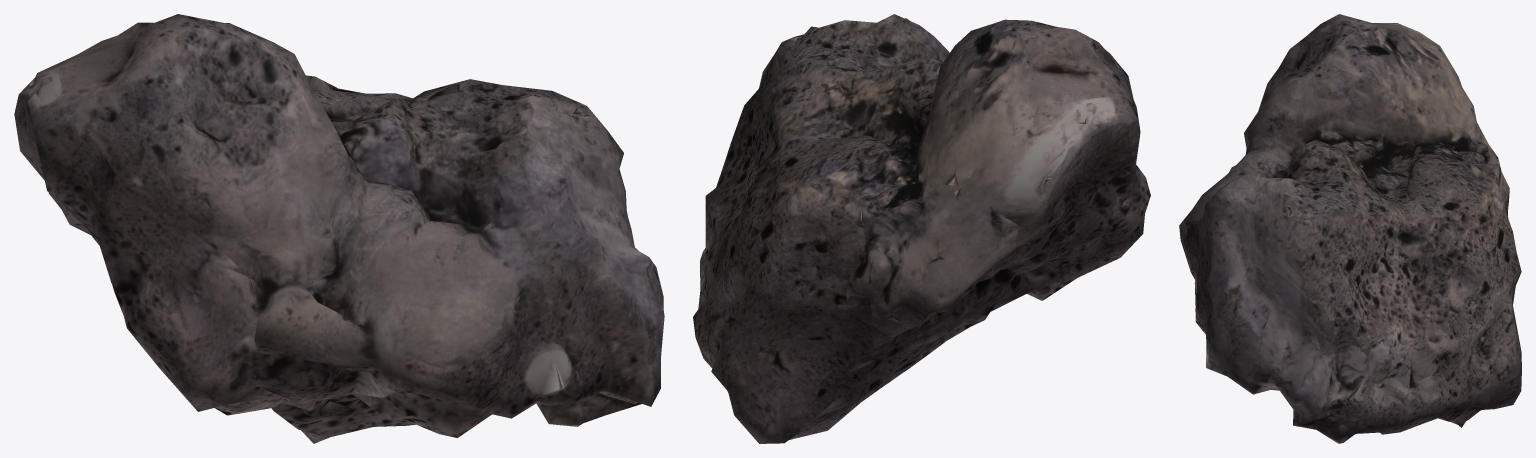
The model's file is rock-scoria-bomb-daal.glb.
3 views of the same model, side by side, from view 1: azimuth 30°, elevation 25°; view 2: azimuth 150°, elevation 25°; view 3: azimuth 270°, elevation 25° (orthographic). The views are drawn at different scales.
Parts seen in each view (by area): view 1: rock-scoria-bomb-daal_LOD0; view 2: rock-scoria-bomb-daal_LOD0; view 3: rock-scoria-bomb-daal_LOD0.
Part boxes in pixels (x1,y1,x2,y2): rock-scoria-bomb-daal_LOD0: [14, 14, 664, 443]; rock-scoria-bomb-daal_LOD0: [693, 14, 1150, 443]; rock-scoria-bomb-daal_LOD0: [1179, 14, 1521, 443].
Size of what is drawn, in the model's own units: 0.7017 by 0.6014 by 0.5735.
Materials: 1 (1 with a texture image).
